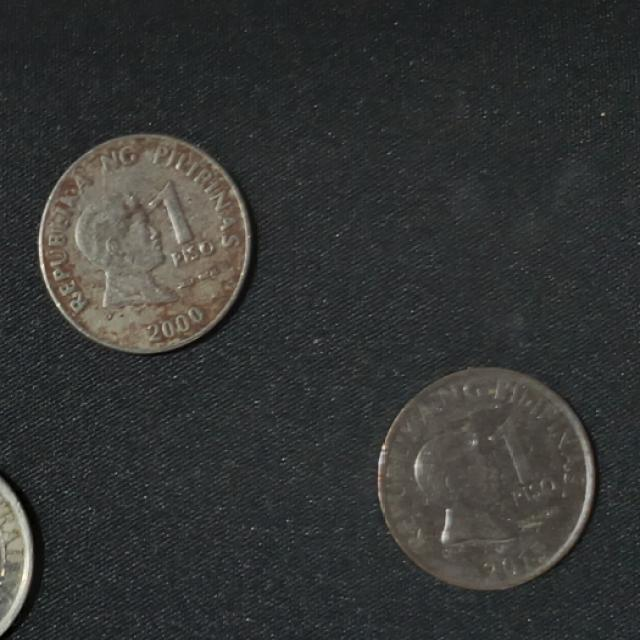1_peso: (378, 368, 592, 589), (39, 135, 250, 352)
